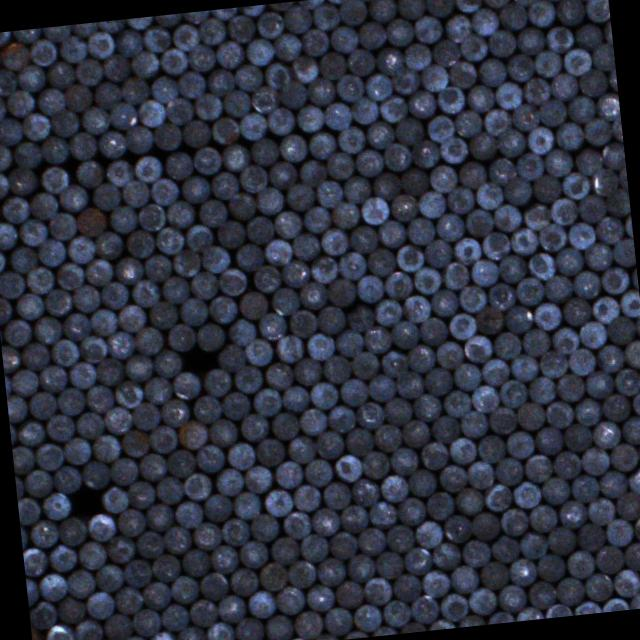tool: (64, 566, 96, 600), (54, 593, 86, 626), (542, 147, 574, 178), (252, 436, 284, 467), (409, 392, 442, 422), (328, 23, 359, 54), (361, 322, 392, 353), (93, 562, 124, 593), (412, 12, 442, 44), (120, 74, 150, 106), (191, 144, 221, 176), (422, 236, 452, 268), (536, 220, 566, 252), (218, 516, 250, 546), (462, 332, 492, 364), (251, 386, 281, 418), (541, 273, 573, 303), (408, 592, 438, 624), (532, 425, 564, 455), (83, 30, 114, 60), (214, 38, 244, 69), (244, 36, 275, 66), (92, 80, 122, 111), (20, 111, 50, 142), (76, 206, 106, 237), (397, 168, 428, 198), (365, 248, 396, 278), (286, 308, 316, 339), (507, 225, 538, 255), (32, 441, 63, 471), (80, 459, 110, 490), (176, 419, 207, 449), (194, 442, 224, 473), (224, 440, 255, 470), (115, 507, 145, 538), (161, 524, 191, 555), (190, 520, 221, 550), (180, 547, 210, 578), (208, 543, 238, 574), (228, 566, 258, 597), (422, 365, 452, 396), (238, 411, 268, 442), (312, 428, 343, 458), (248, 511, 278, 542), (391, 572, 422, 602), (293, 609, 323, 640), (478, 559, 508, 590), (357, 18, 386, 50), (133, 324, 162, 356), (502, 174, 531, 206), (37, 572, 67, 602), (26, 37, 56, 67), (113, 28, 143, 58), (224, 14, 254, 44), (15, 62, 45, 92), (45, 59, 75, 89), (101, 52, 131, 82), (299, 26, 329, 56), (4, 88, 34, 118), (288, 54, 318, 84), (317, 50, 347, 80), (374, 46, 404, 76), (79, 105, 109, 135), (136, 98, 166, 128), (277, 79, 307, 109), (476, 57, 506, 87), (532, 48, 562, 78), (561, 47, 591, 77), (180, 118, 210, 148), (132, 154, 162, 184), (306, 130, 336, 160), (576, 68, 606, 98), (394, 116, 424, 146), (424, 114, 454, 144), (65, 233, 95, 263), (92, 230, 122, 260), (237, 164, 267, 194), (124, 228, 154, 258), (154, 224, 184, 254), (216, 266, 246, 296), (129, 277, 159, 307), (238, 290, 268, 320), (170, 370, 200, 400), (159, 398, 189, 428), (190, 394, 220, 424), (438, 134, 468, 164), (495, 126, 525, 156), (560, 170, 590, 200), (531, 174, 561, 204), (358, 194, 388, 224), (473, 180, 503, 210), (336, 250, 366, 280), (297, 279, 327, 309), (382, 268, 412, 298), (400, 293, 430, 323), (256, 310, 286, 340), (304, 330, 334, 360), (417, 316, 447, 346), (566, 220, 596, 250), (60, 436, 90, 466), (147, 424, 177, 454), (50, 464, 80, 494), (181, 471, 211, 501), (124, 480, 154, 510), (28, 518, 58, 548), (86, 512, 116, 542), (76, 540, 106, 570), (142, 502, 172, 532), (203, 492, 233, 522), (134, 529, 164, 559), (150, 552, 180, 582), (83, 590, 113, 620), (113, 584, 143, 614), (140, 580, 170, 610), (169, 574, 199, 604), (130, 607, 160, 637), (158, 602, 188, 632), (404, 342, 434, 372), (308, 380, 338, 410), (366, 372, 396, 402), (452, 360, 482, 390), (326, 404, 356, 434), (442, 388, 472, 418), (286, 434, 316, 464), (344, 426, 374, 456), (430, 414, 460, 444), (486, 404, 516, 434), (526, 250, 556, 280), (570, 268, 600, 298), (473, 303, 503, 333), (388, 446, 418, 476), (262, 488, 292, 518), (320, 480, 350, 510), (274, 584, 304, 614), (280, 508, 310, 538), (268, 536, 298, 566), (356, 526, 386, 556), (384, 523, 414, 553), (316, 556, 346, 586), (346, 552, 376, 582), (430, 540, 460, 570), (304, 582, 334, 612), (361, 575, 391, 605), (420, 568, 450, 598), (322, 606, 352, 636), (438, 592, 468, 622), (590, 294, 620, 324), (491, 330, 521, 360), (604, 315, 634, 345), (508, 352, 538, 382), (565, 346, 595, 376), (514, 399, 544, 429), (572, 396, 602, 426), (562, 422, 592, 452), (590, 418, 620, 448), (424, 490, 454, 520), (482, 482, 512, 512), (540, 475, 570, 505), (570, 473, 600, 503), (442, 513, 472, 543), (460, 537, 490, 567), (546, 525, 576, 555), (594, 544, 624, 574), (583, 572, 613, 602), (554, 576, 584, 606), (373, 296, 403, 326), (185, 43, 216, 72), (430, 38, 461, 67), (9, 367, 38, 398), (245, 214, 274, 245), (491, 201, 520, 232), (389, 318, 418, 349), (164, 449, 195, 478), (198, 570, 227, 601), (321, 353, 350, 384), (401, 417, 430, 448), (359, 448, 388, 479), (449, 563, 478, 594), (28, 598, 56, 630), (58, 34, 87, 64), (254, 10, 284, 39), (73, 56, 102, 86), (128, 49, 158, 78), (442, 12, 471, 42), (496, 1, 526, 30), (35, 87, 65, 116), (176, 69, 206, 98), (205, 66, 235, 95), (233, 62, 262, 92), (402, 40, 431, 70), (458, 32, 488, 61), (544, 23, 574, 52), (48, 108, 78, 137), (304, 76, 334, 105), (363, 72, 392, 102), (390, 66, 420, 95), (419, 62, 448, 92), (505, 52, 534, 82), (67, 130, 96, 160), (98, 128, 127, 158), (220, 142, 249, 172), (464, 82, 493, 112), (492, 80, 522, 109), (520, 76, 550, 105), (46, 211, 76, 240), (106, 330, 135, 360), (84, 383, 113, 413), (112, 379, 142, 408), (142, 376, 172, 405), (148, 176, 178, 205), (108, 204, 137, 234), (165, 198, 194, 228), (234, 242, 263, 272), (188, 270, 218, 299), (233, 364, 262, 394), (102, 405, 132, 434), (130, 401, 160, 430), (409, 138, 438, 168), (371, 171, 401, 200), (486, 157, 516, 186), (272, 208, 301, 238), (416, 189, 445, 219), (452, 235, 481, 265), (269, 284, 298, 314), (468, 257, 498, 286), (429, 288, 458, 318), (333, 328, 362, 358), (447, 311, 476, 341), (576, 193, 606, 222), (594, 214, 624, 243), (91, 433, 120, 463), (109, 456, 138, 486), (154, 475, 183, 505), (99, 484, 128, 514), (40, 491, 70, 520), (56, 516, 85, 546), (172, 500, 202, 529), (105, 534, 135, 563), (122, 558, 151, 588), (102, 611, 132, 640), (188, 598, 217, 628), (349, 350, 378, 380), (338, 378, 368, 407), (394, 369, 423, 399), (298, 406, 327, 436), (354, 400, 384, 429), (382, 396, 412, 425), (469, 384, 499, 413), (458, 409, 488, 438), (213, 468, 243, 497), (242, 463, 271, 493), (302, 457, 332, 486), (231, 490, 260, 520), (496, 253, 526, 282), (598, 265, 628, 294), (379, 472, 408, 502), (406, 468, 436, 497), (438, 463, 468, 492), (493, 456, 522, 486), (523, 452, 552, 482), (237, 539, 266, 569), (338, 503, 368, 532), (395, 496, 425, 525), (413, 519, 443, 548), (285, 559, 315, 588), (402, 546, 431, 576), (352, 602, 381, 632), (382, 597, 411, 627), (466, 585, 495, 615), (479, 356, 508, 386), (497, 378, 526, 408), (555, 372, 584, 402), (600, 392, 630, 421), (550, 450, 580, 479), (580, 445, 609, 475), (609, 442, 638, 472), (512, 479, 541, 509), (596, 469, 626, 498), (499, 506, 528, 536), (565, 548, 594, 578), (108, 100, 136, 131), (222, 88, 250, 119), (393, 243, 424, 271), (515, 275, 543, 306), (258, 560, 286, 591), (486, 27, 515, 56), (249, 136, 278, 165), (378, 95, 407, 124), (406, 89, 435, 118), (481, 107, 510, 136), (45, 413, 74, 442), (263, 237, 292, 266), (582, 115, 611, 144), (479, 231, 508, 260), (354, 273, 383, 302), (292, 357, 321, 386), (486, 281, 515, 310), (504, 429, 533, 458), (349, 476, 378, 505), (247, 588, 276, 617), (309, 506, 338, 535), (334, 579, 363, 608), (583, 369, 612, 398), (544, 399, 573, 428), (528, 503, 557, 532), (611, 567, 640, 596), (0, 40, 28, 70), (272, 32, 300, 62), (385, 16, 413, 46), (470, 6, 498, 36), (63, 82, 91, 112), (262, 59, 290, 89), (346, 46, 374, 76), (516, 26, 544, 56), (192, 92, 222, 120), (250, 84, 278, 114), (335, 72, 363, 102), (446, 60, 476, 88), (74, 158, 102, 188), (238, 110, 266, 140), (278, 132, 306, 162), (350, 95, 378, 125), (364, 120, 394, 148), (452, 108, 480, 138), (536, 98, 566, 126), (566, 93, 594, 123), (24, 265, 54, 293), (114, 255, 142, 285), (33, 314, 61, 344), (117, 302, 145, 332), (94, 356, 122, 386), (56, 386, 84, 416), (120, 178, 148, 208), (184, 222, 212, 252), (200, 244, 230, 272), (161, 274, 189, 304), (146, 300, 176, 328), (220, 390, 248, 420), (268, 160, 296, 190), (382, 141, 410, 171), (526, 125, 554, 155), (284, 182, 314, 210), (444, 184, 472, 214), (434, 212, 464, 240), (376, 218, 404, 248), (308, 255, 338, 283), (458, 282, 486, 312), (316, 304, 344, 334), (274, 333, 302, 363), (603, 188, 631, 218), (120, 429, 150, 457), (24, 468, 52, 498), (208, 417, 236, 447), (48, 542, 76, 572), (435, 339, 463, 369), (373, 421, 401, 451), (333, 452, 361, 482), (554, 244, 582, 274), (584, 240, 612, 270), (502, 304, 532, 332), (420, 440, 448, 470), (292, 482, 320, 512), (466, 458, 494, 488), (298, 532, 326, 562), (578, 318, 606, 348), (596, 342, 624, 372), (612, 366, 640, 396), (455, 486, 483, 516), (470, 512, 500, 540), (604, 516, 632, 546), (508, 556, 536, 586), (170, 23, 199, 51), (282, 4, 310, 33), (158, 46, 186, 75), (149, 75, 178, 103), (164, 96, 192, 125), (152, 122, 181, 150), (40, 165, 68, 194), (210, 116, 238, 145), (322, 101, 350, 130), (336, 125, 364, 154), (436, 84, 464, 113), (549, 72, 577, 101), (36, 237, 64, 266), (100, 280, 128, 309), (20, 342, 48, 371), (50, 337, 78, 366), (79, 333, 107, 362), (38, 363, 66, 392), (28, 390, 56, 419), (153, 348, 181, 377), (180, 175, 209, 203), (137, 202, 165, 231), (170, 248, 199, 276), (179, 296, 208, 324), (208, 294, 236, 323), (194, 322, 223, 350), (216, 342, 245, 370), (354, 148, 383, 176), (554, 121, 582, 150), (428, 164, 457, 192), (319, 227, 347, 256), (291, 231, 319, 260), (326, 277, 354, 306), (411, 264, 440, 292), (280, 384, 308, 413), (270, 411, 298, 440), (274, 459, 302, 488), (532, 300, 560, 329), (561, 296, 589, 325), (476, 433, 504, 462), (327, 530, 356, 558), (374, 550, 402, 579), (496, 583, 524, 612), (538, 349, 566, 378), (558, 499, 586, 528), (586, 496, 614, 525), (576, 522, 605, 550), (536, 553, 564, 582), (527, 580, 556, 608), (511, 101, 538, 131), (548, 196, 578, 223), (217, 594, 244, 624), (262, 361, 292, 388), (380, 348, 407, 378), (263, 613, 293, 640), (613, 490, 640, 520), (553, 0, 585, 25), (142, 24, 170, 52), (197, 16, 225, 44), (124, 124, 152, 152), (266, 106, 294, 134), (30, 192, 58, 220), (18, 218, 46, 246), (54, 262, 82, 290), (84, 258, 112, 286), (42, 288, 70, 316), (88, 307, 116, 335), (91, 182, 119, 210), (142, 254, 170, 282), (166, 322, 194, 350), (244, 338, 272, 366), (202, 367, 230, 395), (298, 160, 326, 188), (468, 130, 496, 158), (254, 186, 282, 214), (515, 152, 543, 180), (589, 167, 617, 195), (330, 200, 358, 228), (390, 192, 418, 220), (406, 216, 434, 244), (349, 225, 377, 253), (252, 264, 280, 292), (346, 304, 374, 332), (448, 436, 476, 464), (366, 500, 394, 528), (521, 327, 549, 355), (7, 167, 36, 194), (72, 283, 99, 312), (227, 190, 254, 219), (228, 318, 255, 347), (463, 208, 492, 235), (442, 260, 468, 290), (610, 236, 636, 266), (518, 532, 548, 558), (233, 615, 264, 640), (526, 0, 554, 27), (14, 140, 41, 168), (164, 152, 192, 179), (296, 105, 324, 132), (9, 245, 37, 272), (3, 318, 30, 346), (62, 312, 90, 339), (68, 361, 96, 388), (198, 199, 226, 226), (217, 220, 244, 248), (315, 179, 342, 207), (458, 160, 486, 187), (574, 148, 602, 175), (599, 141, 626, 169), (281, 259, 308, 287), (138, 454, 166, 481), (551, 325, 578, 353), (337, 0, 366, 26), (590, 42, 616, 71), (528, 375, 554, 404), (312, 3, 339, 30), (41, 136, 68, 163), (105, 160, 132, 187), (15, 292, 42, 319), (491, 535, 518, 562), (575, 22, 601, 50), (595, 92, 621, 120), (58, 185, 86, 211), (16, 420, 44, 446), (326, 150, 352, 178), (522, 204, 550, 230), (22, 546, 46, 576), (1, 196, 28, 222), (125, 354, 152, 380), (76, 411, 102, 438), (303, 206, 330, 232), (0, 270, 24, 299), (12, 444, 34, 475), (212, 172, 238, 198), (343, 176, 369, 202), (618, 287, 640, 317), (73, 618, 101, 640), (366, 0, 394, 22), (0, 116, 22, 144), (17, 496, 39, 524), (204, 620, 234, 640), (6, 394, 27, 422), (395, 0, 424, 20), (620, 415, 640, 444), (584, 0, 610, 22), (621, 338, 640, 368), (44, 622, 74, 640), (622, 540, 640, 570), (1, 344, 20, 371), (0, 66, 17, 96), (42, 24, 70, 42), (514, 604, 542, 622), (175, 624, 206, 640), (423, 0, 452, 17), (572, 598, 600, 615), (0, 221, 16, 250), (12, 28, 40, 44), (70, 22, 98, 38), (601, 596, 628, 612), (96, 19, 124, 34), (626, 465, 640, 495), (544, 602, 570, 618), (124, 16, 152, 30), (181, 10, 209, 24), (210, 7, 238, 21), (453, 0, 483, 13), (154, 13, 180, 27), (238, 4, 264, 17), (148, 629, 177, 640), (0, 143, 11, 171), (0, 296, 10, 323), (631, 389, 640, 417), (627, 590, 640, 609), (480, 0, 510, 8), (632, 513, 640, 543), (0, 171, 8, 199), (120, 633, 149, 640), (508, 0, 538, 6), (0, 31, 9, 47), (0, 246, 4, 273)
void: (174, 347, 218, 372), (64, 490, 100, 516)
